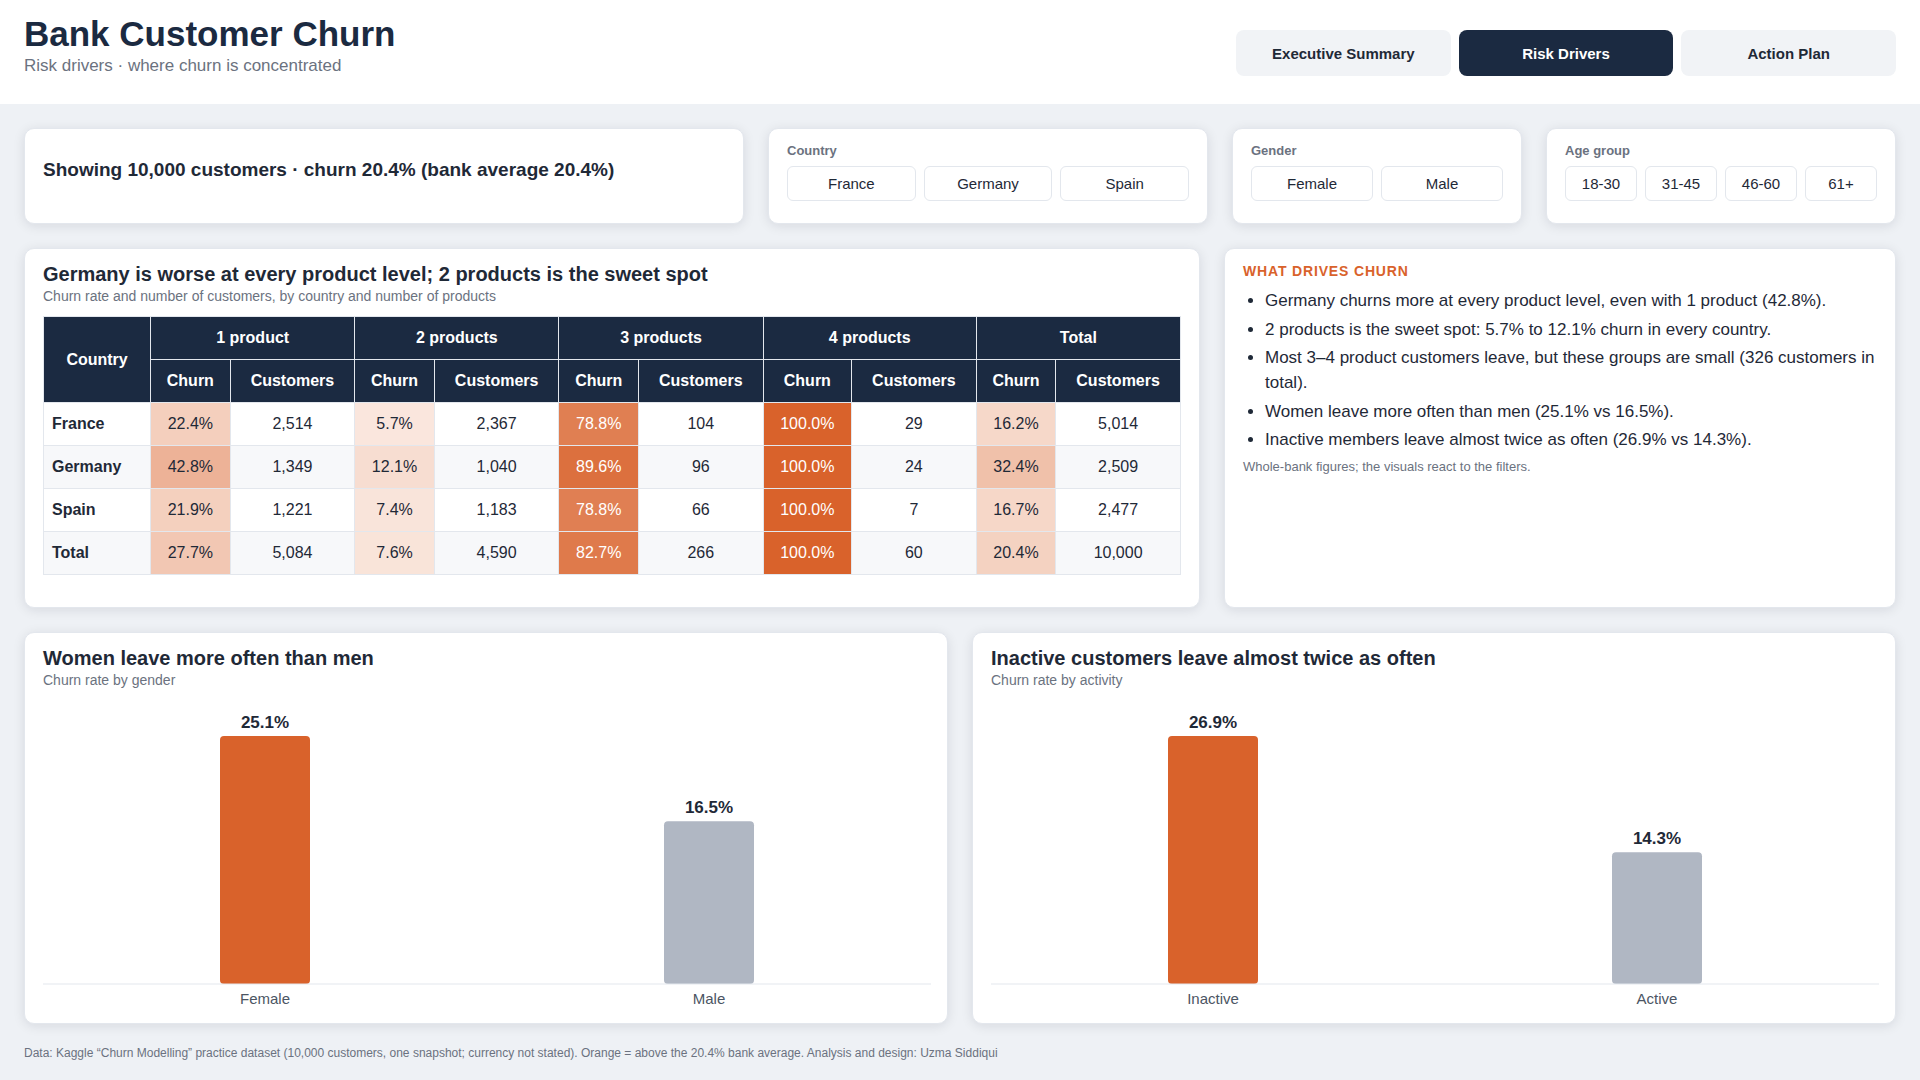

The dashboard page shown, as its layout file describes it:
{"tool":"powerbi","page":{"name":"Risk Drivers","canvas":[1920,1080],"ordinal":1},"visuals":[{"type":"textbox","box":[0,0,1920,104],"z":0},{"type":"textbox","box":[24,1040,1872,34],"z":500},{"type":"cardVisual","fields":{"Data":["_Measures.Subtitle"]},"box":[24,128,720,96],"z":1000},{"type":"slicer","fields":{"Values":["Customers.Geography"]},"box":[768,128,440,96],"z":1000},{"type":"slicer","fields":{"Values":["Customers.Gender"]},"box":[1232,128,290,96],"z":1000},{"type":"slicer","fields":{"Values":["Customers.AgeGroup"]},"box":[1546,128,350,96],"z":1000},{"type":"pivotTable","title":"Germany is worse at every product level; 2 products is the sweet spot","fields":{"Columns":["Customers.NumOfProducts"],"Rows":["Customers.Geography"],"Values":["_Measures.Churn Rate","_Measures.Total Customers"]},"box":[24,248,1176,360],"z":2000},{"type":"textbox","box":[1224,248,672,360],"z":2001},{"type":"clusteredColumnChart","title":"Women leave more often than men","fields":{"Category":["Customers.Gender"],"Y":["_Measures.Churn Rate"]},"box":[24,632,924,392],"z":3000},{"type":"clusteredColumnChart","title":"Inactive customers leave almost twice as often","fields":{"Category":["Customers.Activity"],"Y":["_Measures.Churn Rate"]},"box":[972,632,924,392],"z":3001},{"type":"pageNavigator","box":[1236,30.8,660.5,59.7],"z":20000}]}

Visuals, with their boxes in screenshot pixels (x1, y1, x2, y2), scaled from the page's 1920x1080 canvas onto the 1920x1080 screenshot:
textbox: x1=0, y1=0, x2=1919, y2=104
textbox: x1=24, y1=1040, x2=1896, y2=1074
cardVisual - _Measures.Subtitle: x1=24, y1=128, x2=744, y2=224
slicer - Customers.Geography: x1=768, y1=128, x2=1208, y2=224
slicer - Customers.Gender: x1=1232, y1=128, x2=1522, y2=224
slicer - Customers.AgeGroup: x1=1546, y1=128, x2=1896, y2=224
"Germany is worse at every product level; 2 products is the sweet spot" pivotTable: x1=24, y1=248, x2=1200, y2=608
textbox: x1=1224, y1=248, x2=1896, y2=608
"Women leave more often than men" clusteredColumnChart: x1=24, y1=632, x2=948, y2=1024
"Inactive customers leave almost twice as often" clusteredColumnChart: x1=972, y1=632, x2=1896, y2=1024
pageNavigator: x1=1236, y1=31, x2=1896, y2=90
